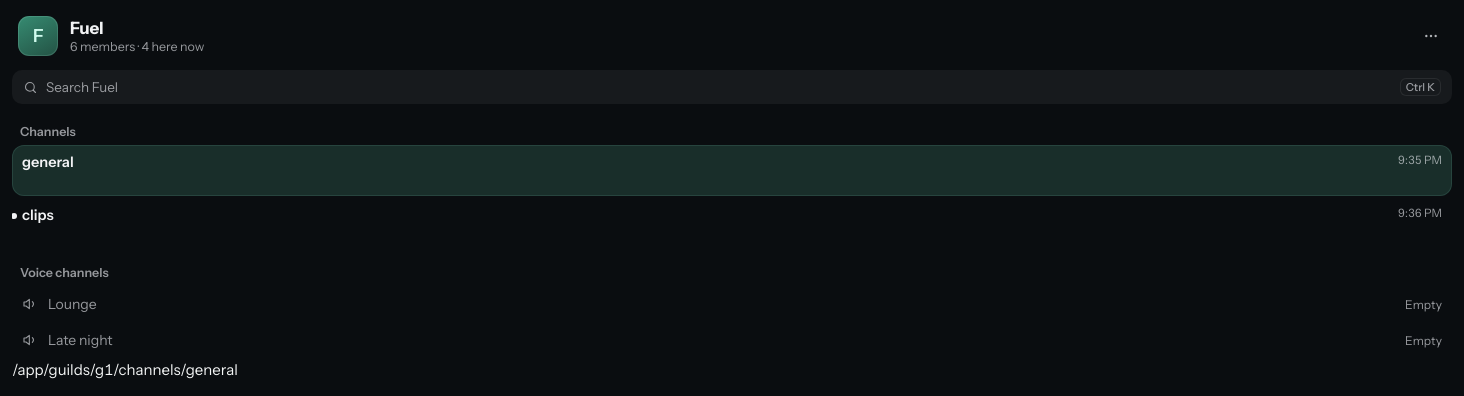
the server pane › opens a channel on click: activates the server and goes to its address
Click the link with test id "ix-channel-row" showing "clips 9:36 PM". click: point(38, 215)
box: [11,206,1442,232]
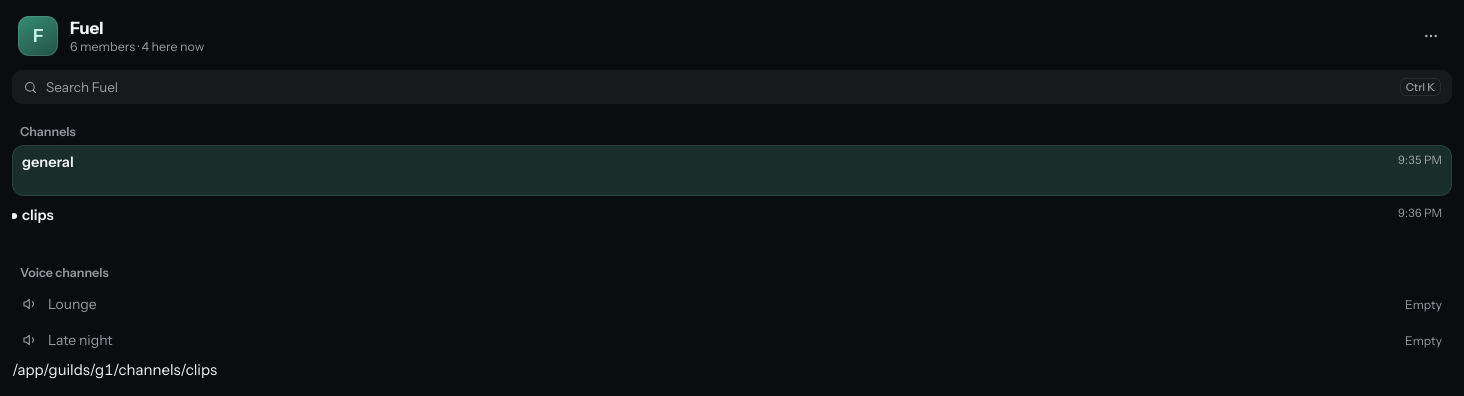
Check: the text with test id "where" reads "/app/guilds/g1/channels/clips", box [12,360,217,379]
